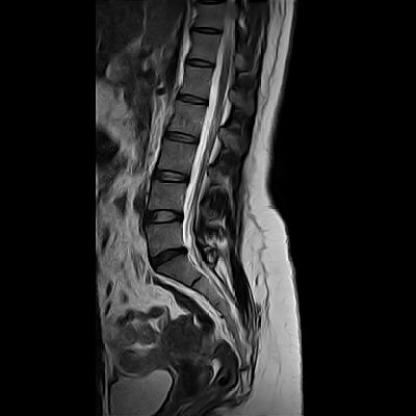Disc Bulgerotation: (145, 207, 185, 227)
Disc Protrusionrotation: (149, 246, 189, 267)
